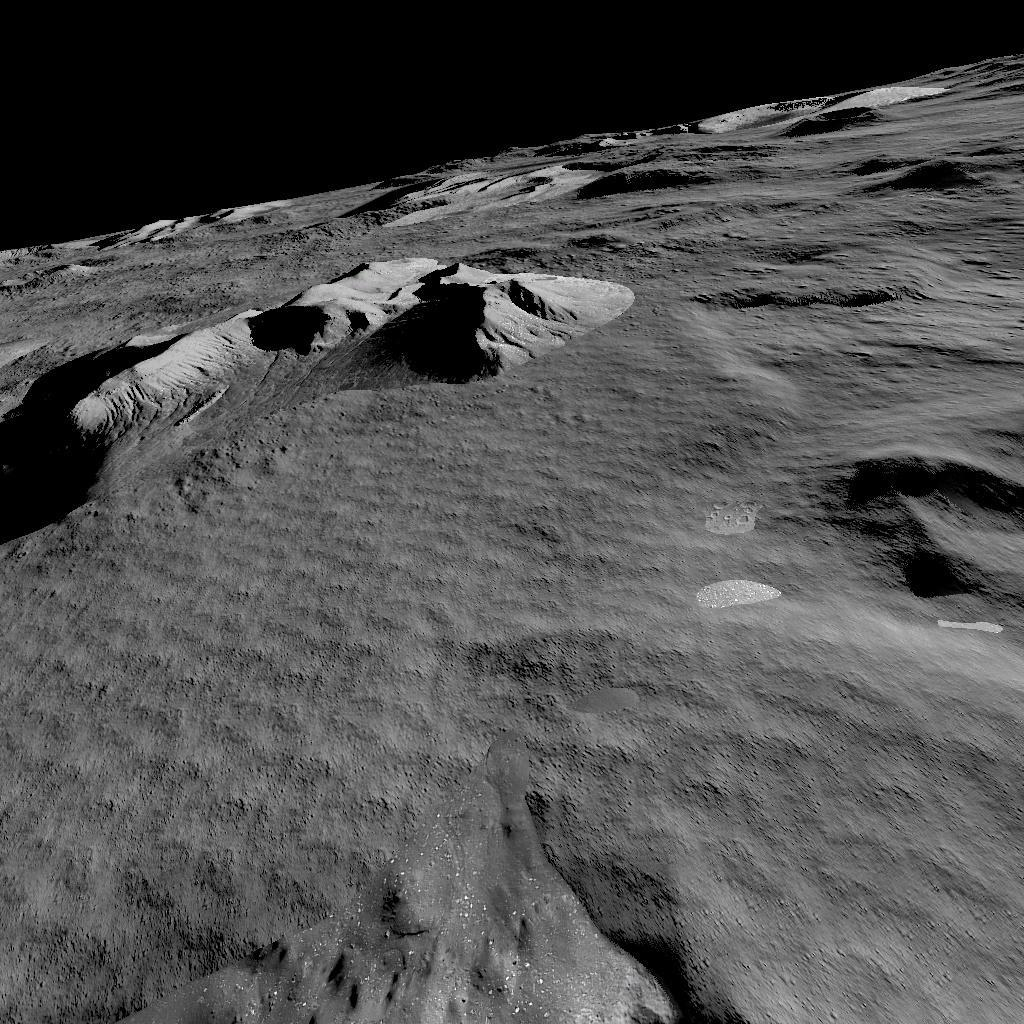Boulders: (2, 253, 634, 495), (334, 84, 990, 228), (104, 197, 292, 240)
Crater: (0, 790, 1024, 1024), (803, 444, 1024, 629), (674, 271, 906, 328)
Plan surface: (0, 528, 763, 760)
